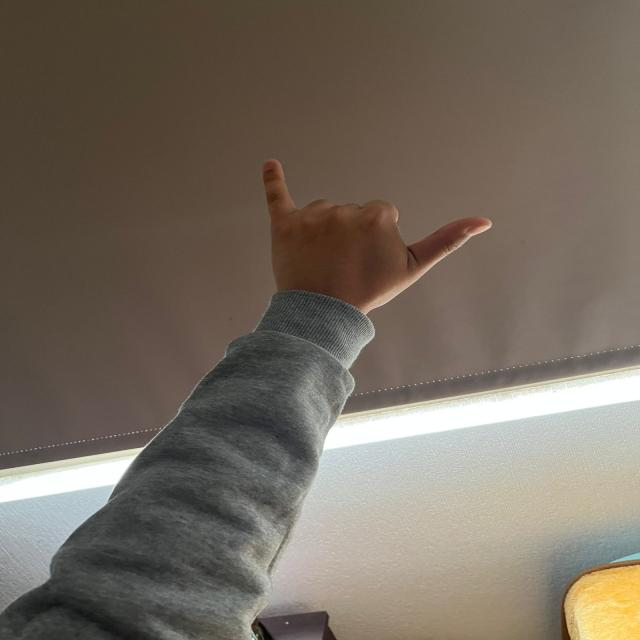Y: (246, 150, 498, 329)
